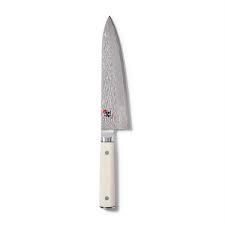Knife: (98, 15, 132, 208)
